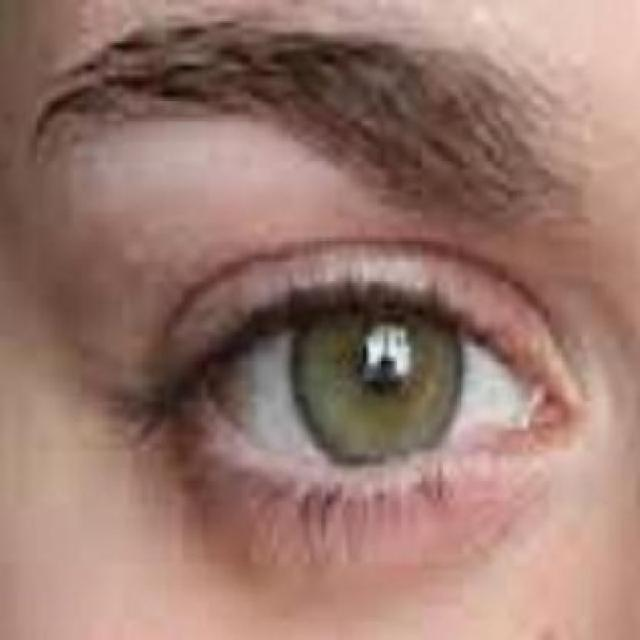awake: (166, 243, 571, 562)
